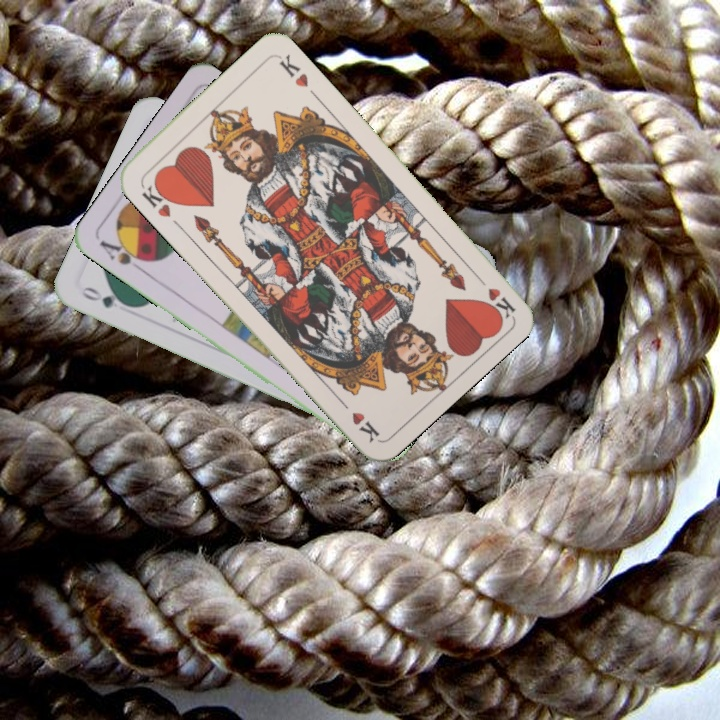GO: (77, 282, 134, 311)
HK: (470, 269, 517, 320), (137, 177, 178, 220)
SA: (95, 235, 153, 276)
